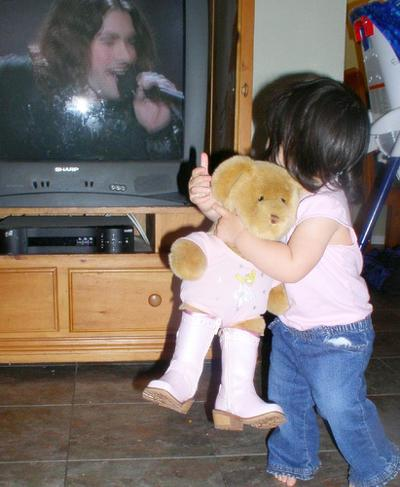person: (189, 72, 400, 485)
